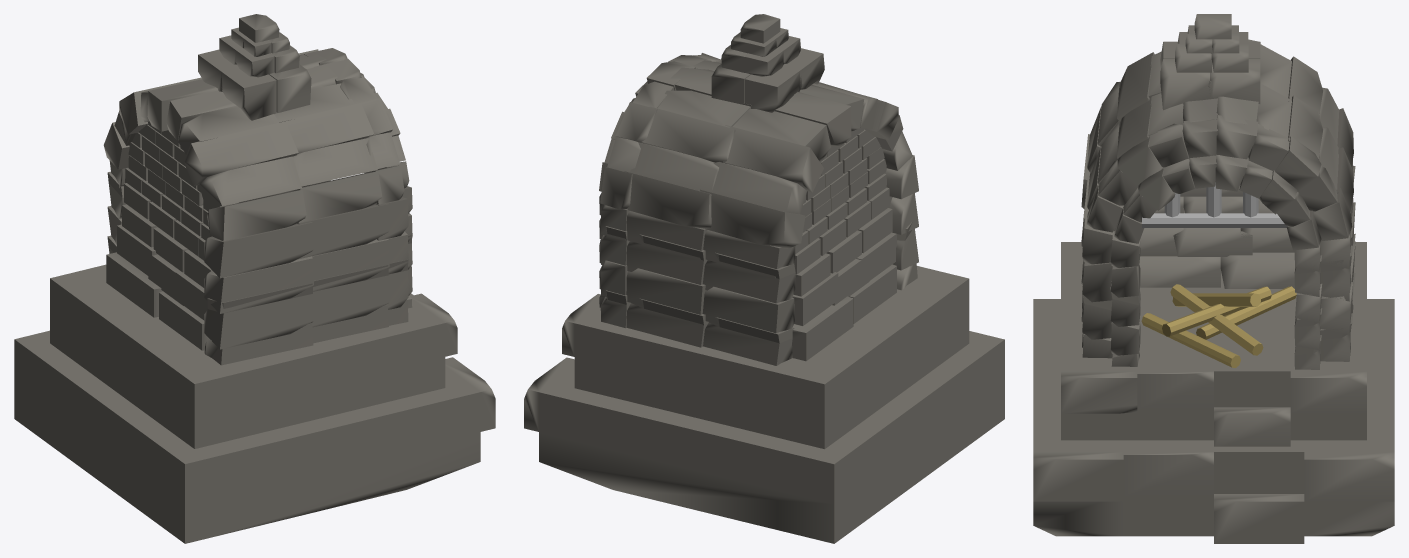
Rendered from fireplace.fbx.
3 views of the same model, side by side, from view 1: azimuth 30°, elevation 25°; view 2: azimuth 150°, elevation 25°; view 3: azimuth 270°, elevation 25° (orthographic). The views are drawn at different scales.
Parts seen in each view (by area): view 1: pCylinder34; view 2: pCylinder34; view 3: pCylinder34.
Part boxes in pixels (x1,y1,x2,y2): pCylinder34: (14,14,495,543); pCylinder34: (524,14,1004,543); pCylinder34: (1033,14,1394,543).
Size of the model in its own units: 48.54 by 62.91 by 46.21.
